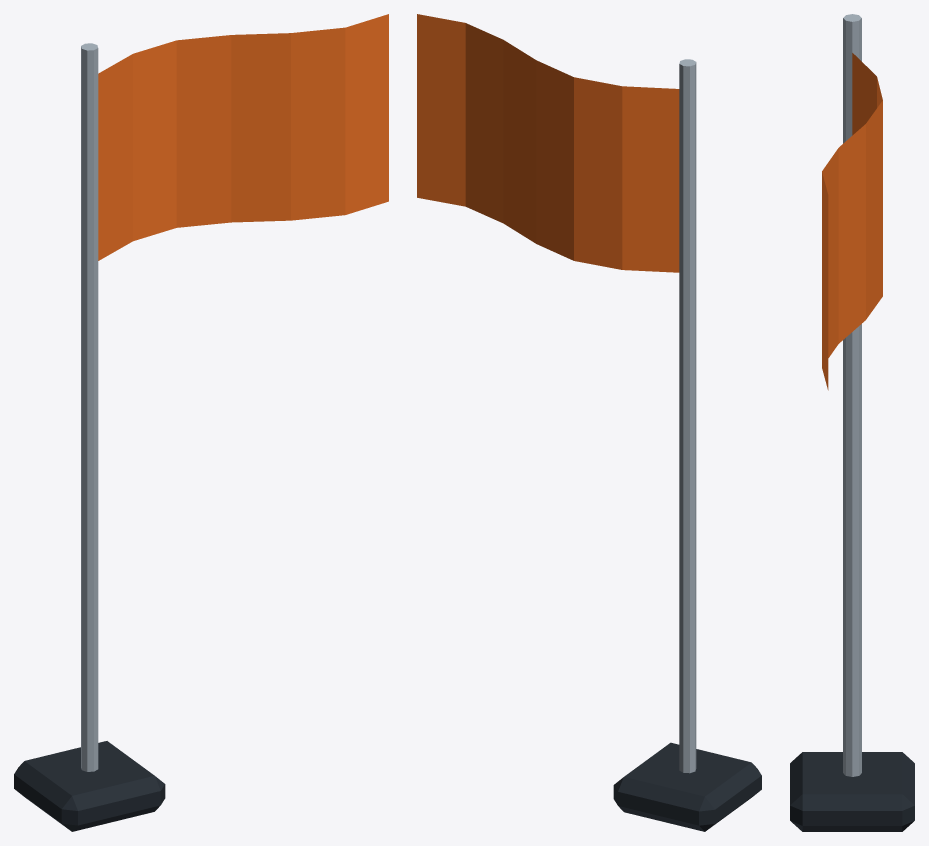
File: flag_papaya.glb
3 views of the same model, side by side, from view 1: azimuth 30°, elevation 25°; view 2: azimuth 150°, elevation 25°; view 3: azimuth 270°, elevation 25° (orthographic). The views are drawn at different scales.
Visible parts, largest first — view 1: flag_papaya__static; view 2: flag_papaya__static; view 3: flag_papaya__static.
Boxes of the visible parts, x1,y1,x2,y2 form: flag_papaya__static: (14,14,388,831); flag_papaya__static: (417,14,761,831); flag_papaya__static: (790,14,914,831).
Bounding box in the file's own units: 1.97 × 4.2 × 0.6.
